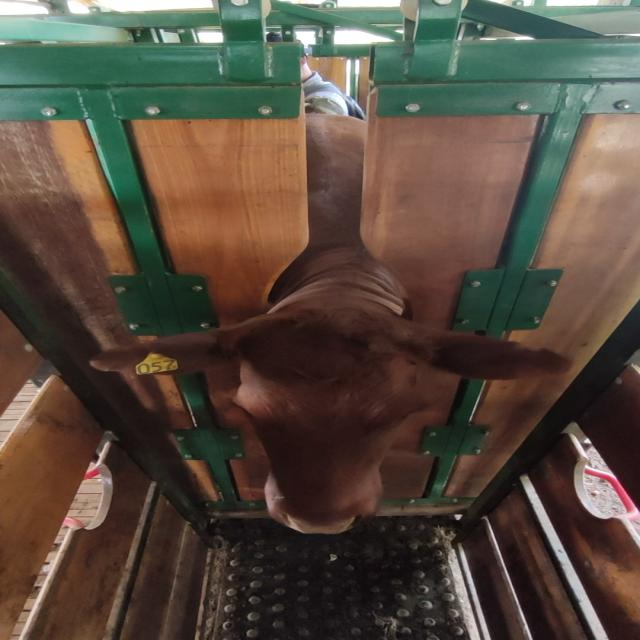cowFace: (231, 308, 422, 536)
